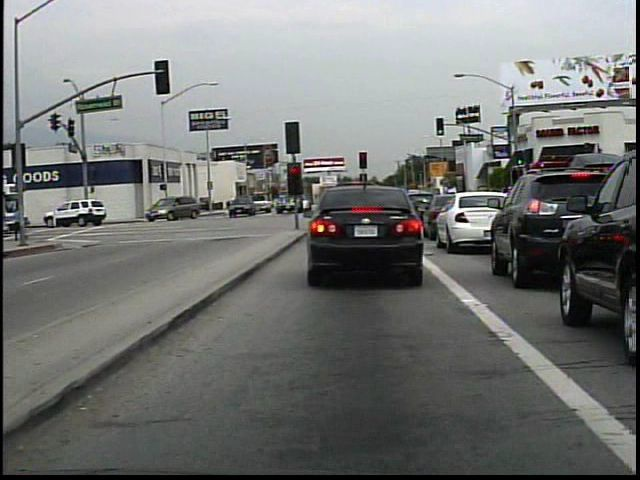person: (12, 204, 34, 246), (231, 193, 235, 206)
